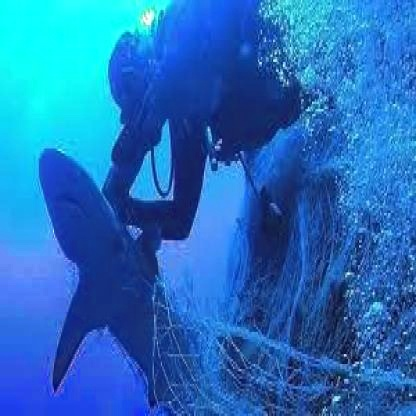net: (156, 287, 361, 416)
